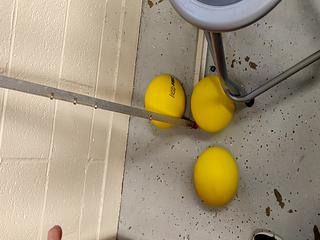power_cell: (140, 69, 191, 132), (187, 72, 238, 135), (191, 143, 242, 206)
